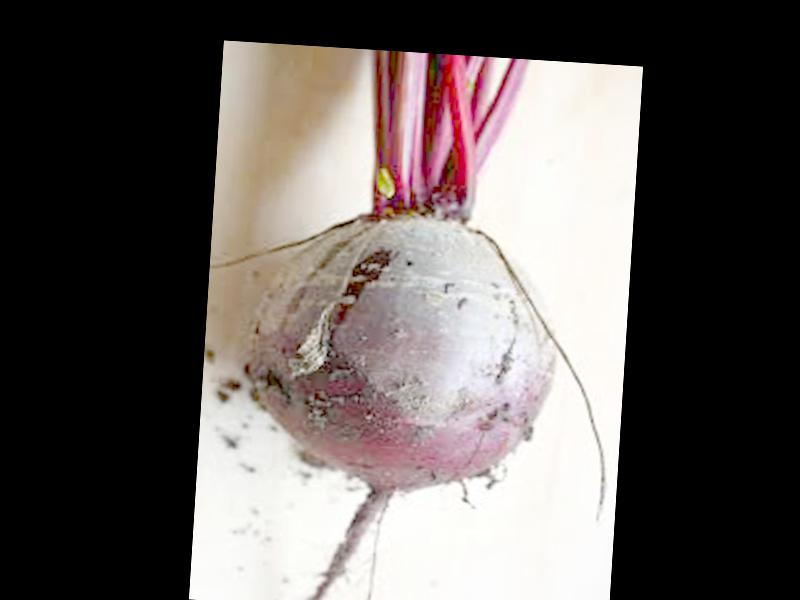Beet: (234, 47, 633, 600)
